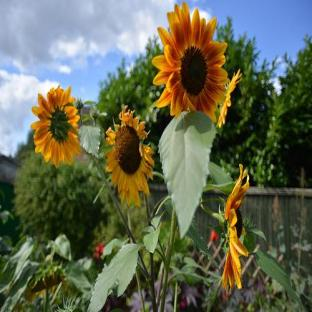sunflower: (152, 2, 230, 124)
